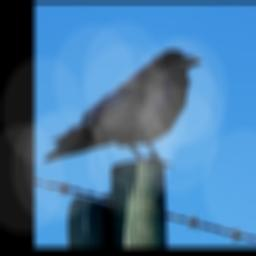Crow: (42, 48, 204, 168)
